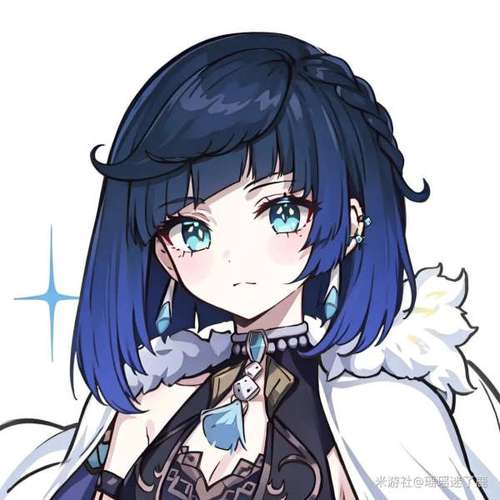夜兰: (63, 30, 479, 500)
